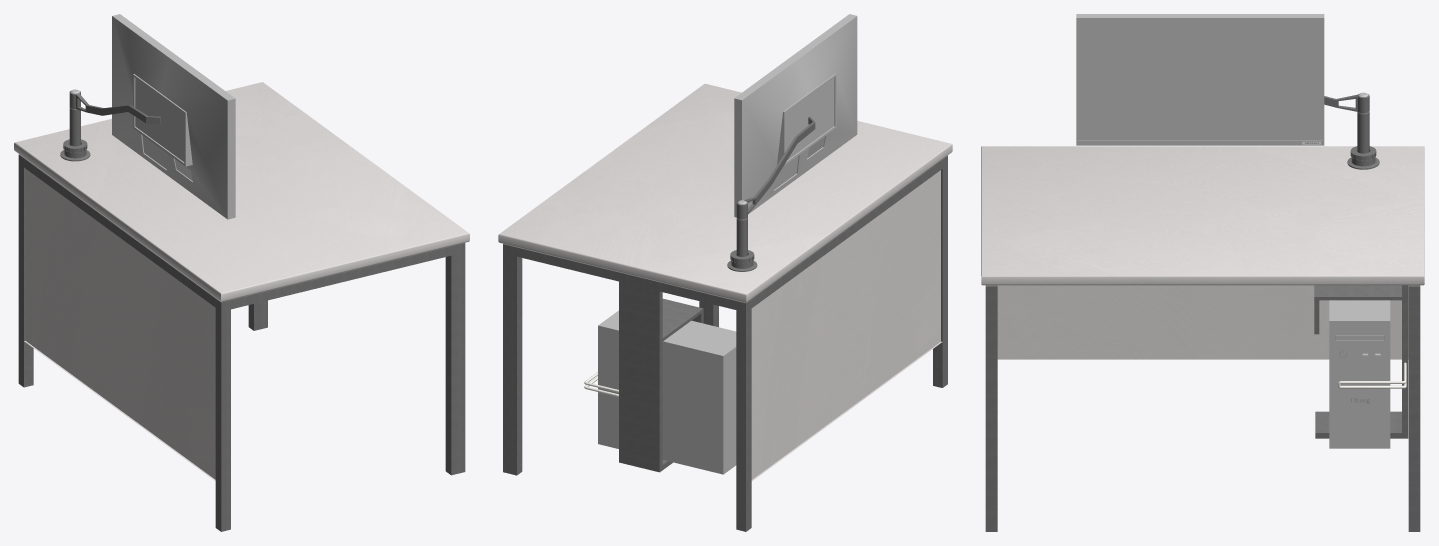
3 views of the same model, side by side, from view 1: azimuth 30°, elevation 25°; view 2: azimuth 150°, elevation 25°; view 3: azimuth 270°, elevation 25° (orthographic). The views are drawn at different scales.
Parts seen in each view (by area): view 1: 좌측컴터; view 2: 좌측컴터; view 3: 좌측컴터.
Part boxes in pixels (<box>): 좌측컴터: <box>14,14,469,531</box>; 좌측컴터: <box>498,14,952,531</box>; 좌측컴터: <box>981,14,1424,531</box>.
Bounding box in the file's own units: 127 × 190 × 183.
